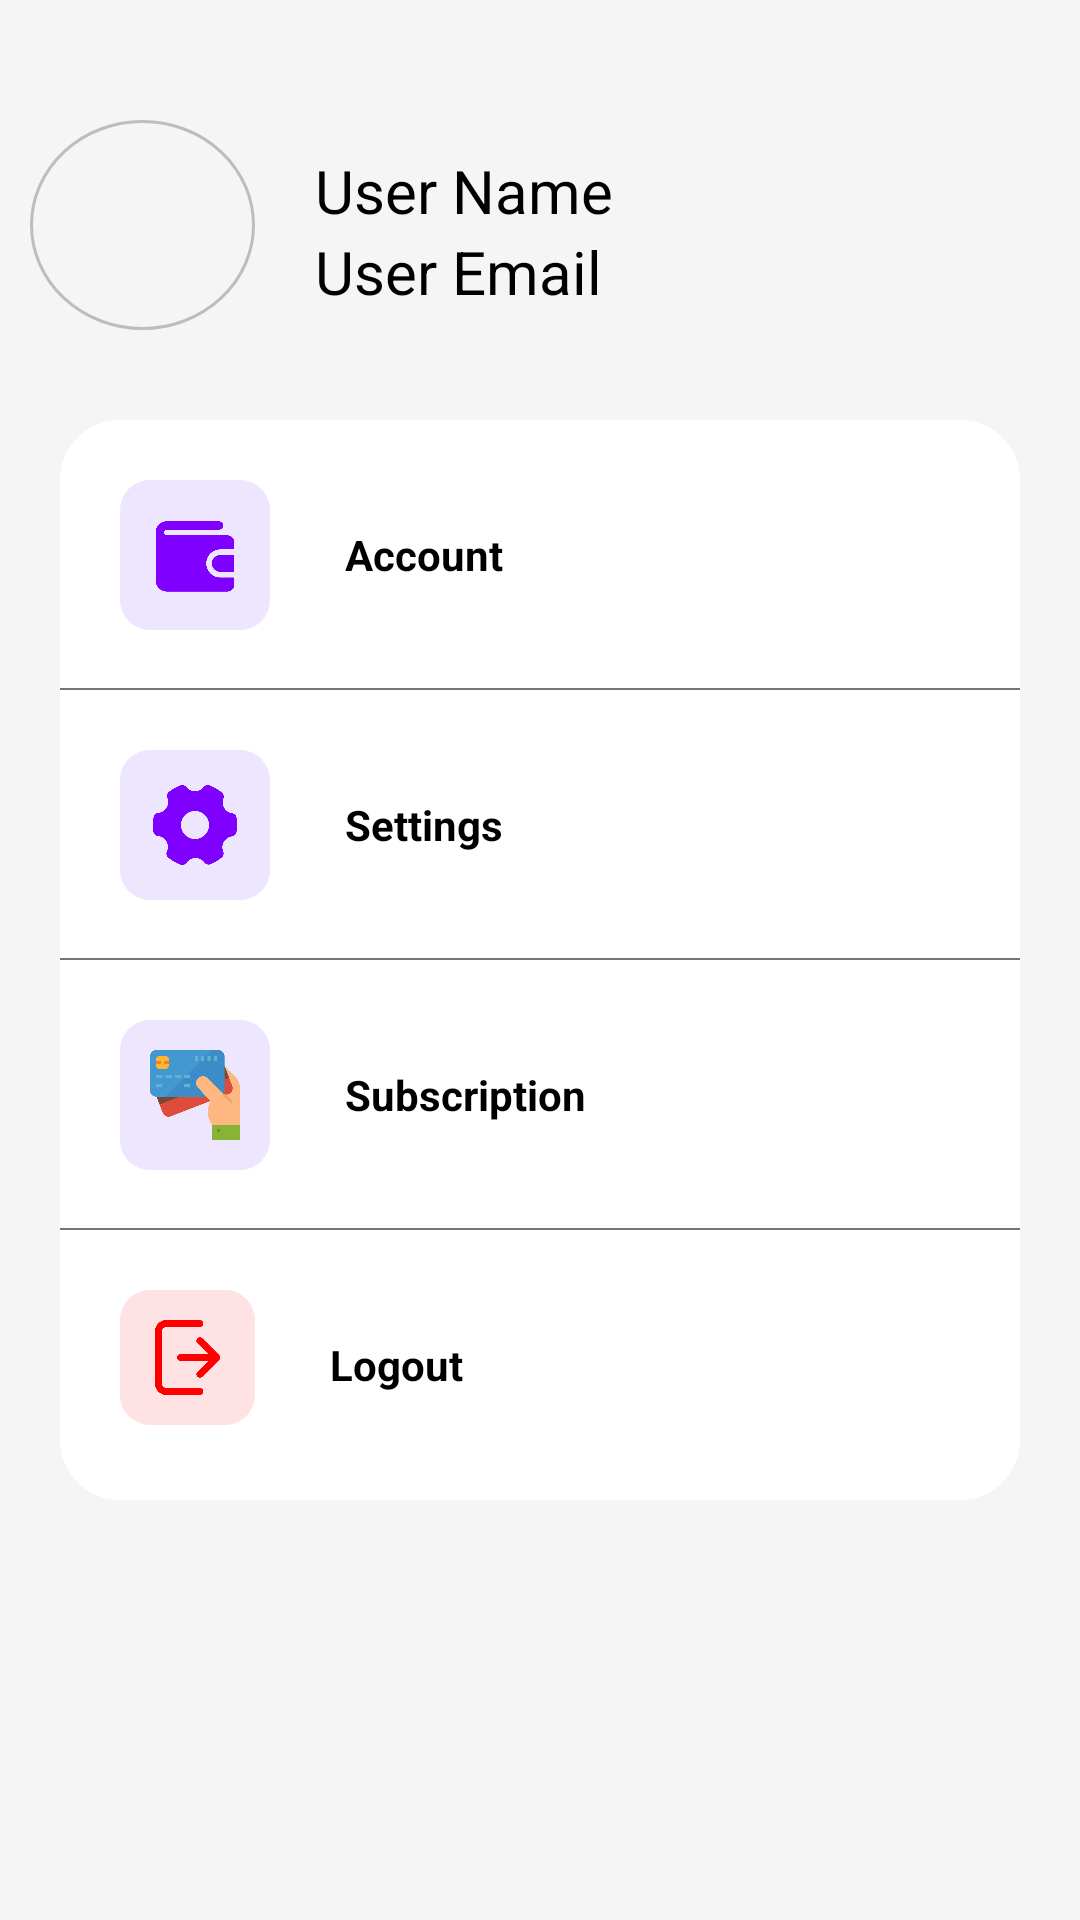

Screen size 1080×1920. Icon name, then its center in pixels as [x,y]:
debit card: [195,1095]
wallet: [195,556]
